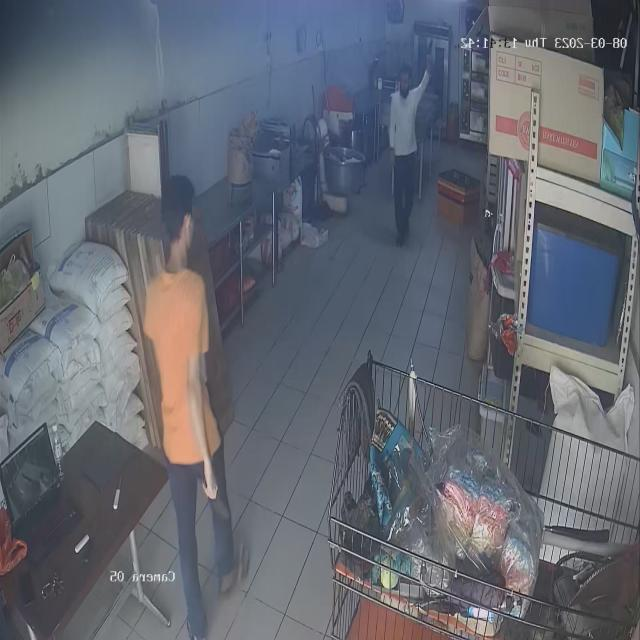Gun: (422, 32, 441, 70)
Knife: (186, 474, 246, 525)
